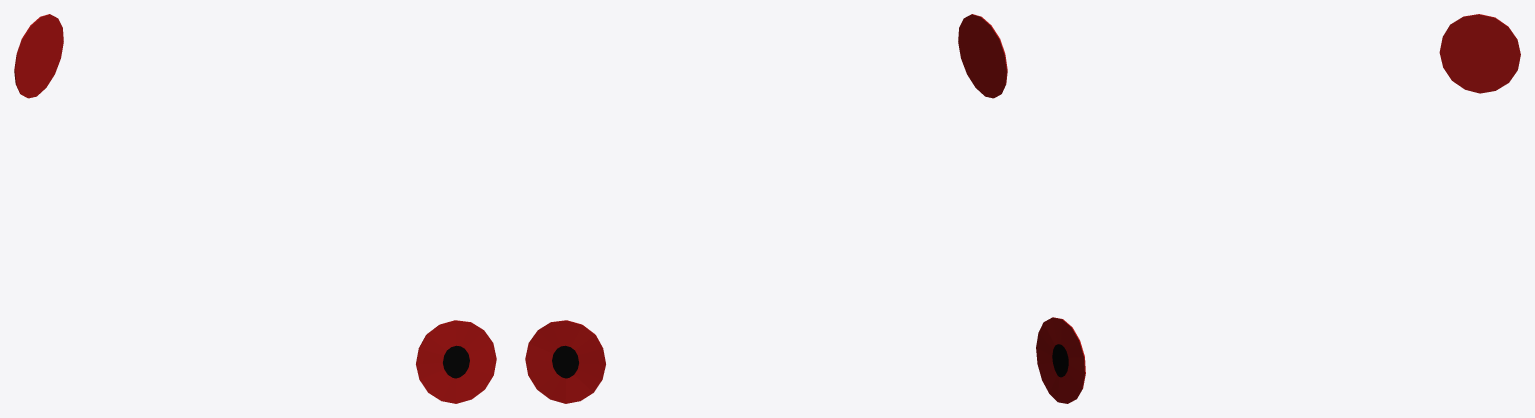
The model's file is Swordfish 1.fbx.
3 renders of one model, left to right at view 1: azimuth 30°, elevation 25°; view 2: azimuth 150°, elevation 25°; view 3: azimuth 330°, elevation 25°, orthographic.
Visible parts, largest first — view 1: pupil; view 2: pupil; view 3: pupil.
Boxes of the visible parts, <box> form: pupil: <box>14,14,496,403</box>; pupil: <box>525,14,1007,403</box>; pupil: <box>1036,14,1520,403</box>.
Size of the model in its own units: 8.49 by 10.09 by 97.85.
